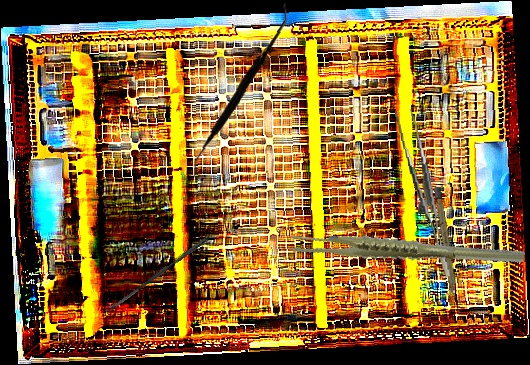Scalpel Handle: (433, 186, 459, 299)
Spatula Surgical: (188, 2, 291, 178)
Surgical Spoon: (104, 235, 210, 314)
Tissue Forceps: (287, 193, 526, 308), (394, 106, 451, 281)
